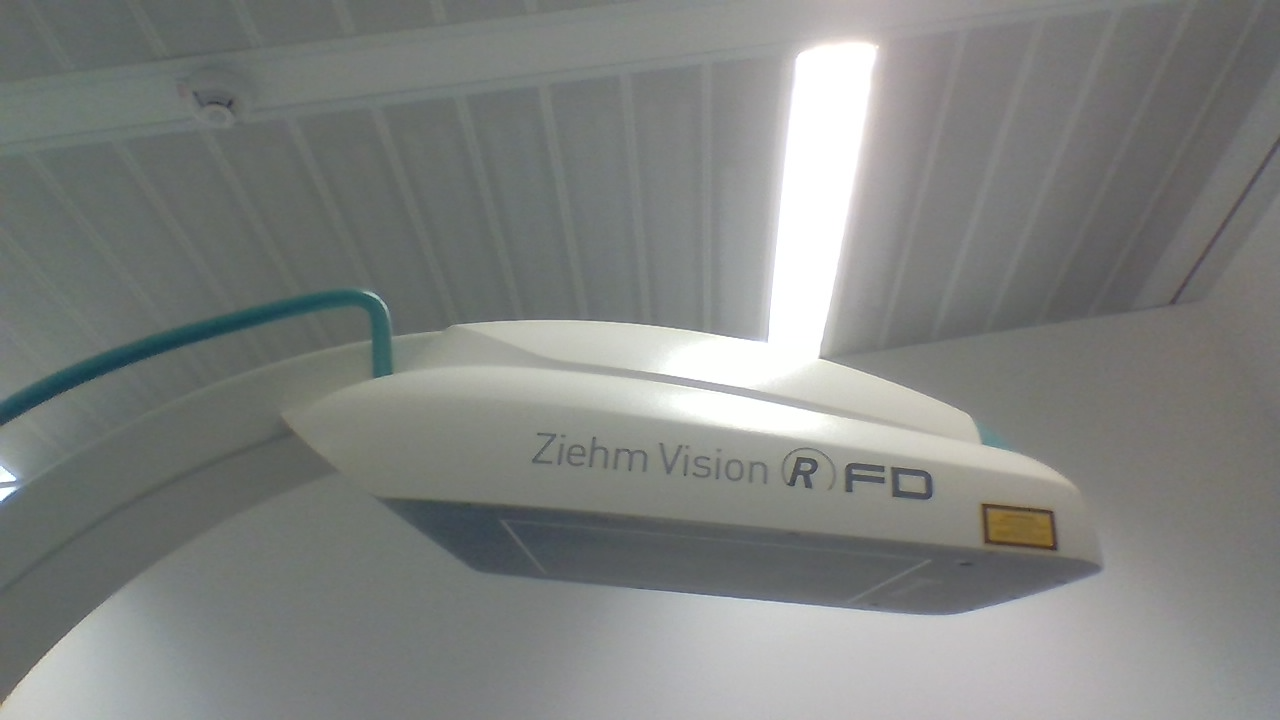carmUP: (292, 318, 1104, 616)
